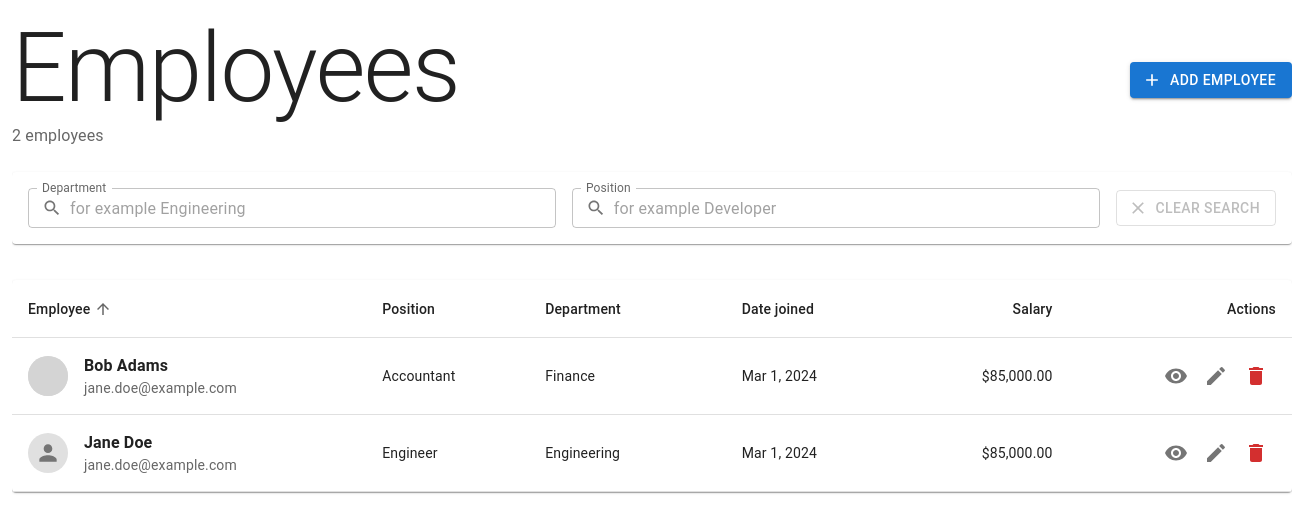
Test: EmployeeListPage: searching › waits for a pause in typing: one request, not one per keystroke
In the field labelled "Department": (313, 208) [70,188,556,228], type "engineering"
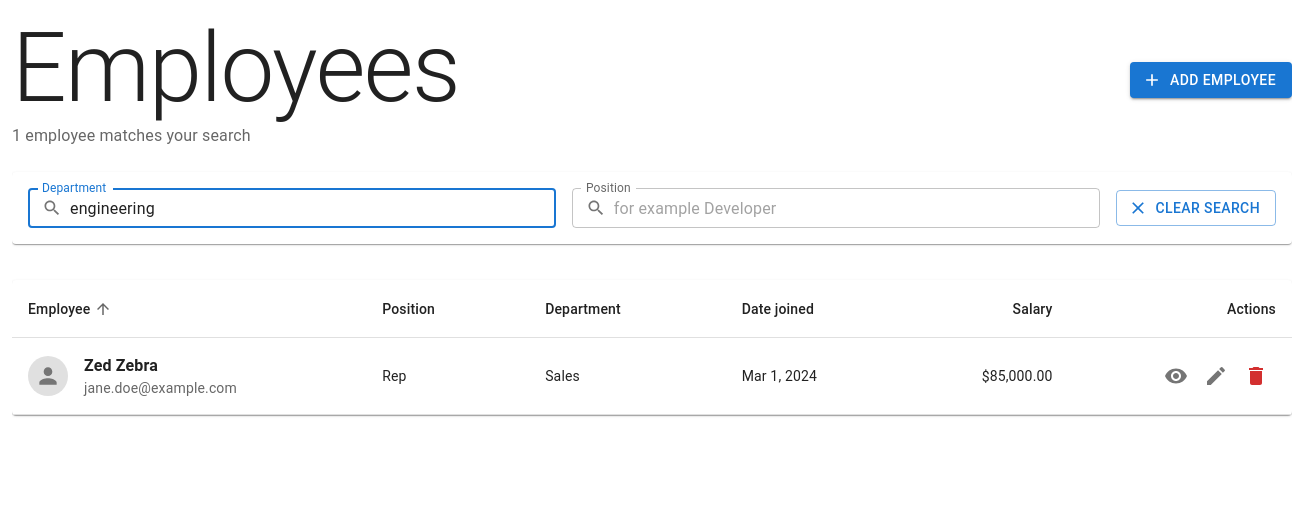
Expected: the row "Zed Zebra" is shown, [12,338,1291,415]
